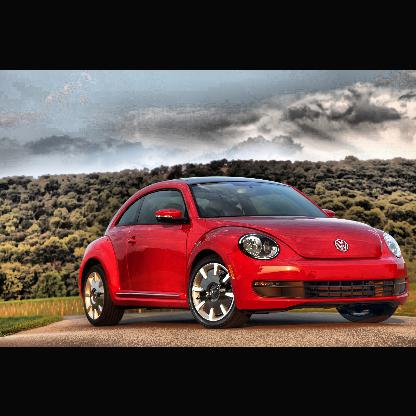Volkswagen Beetle Hatchback 2012: (78, 174, 413, 329)
